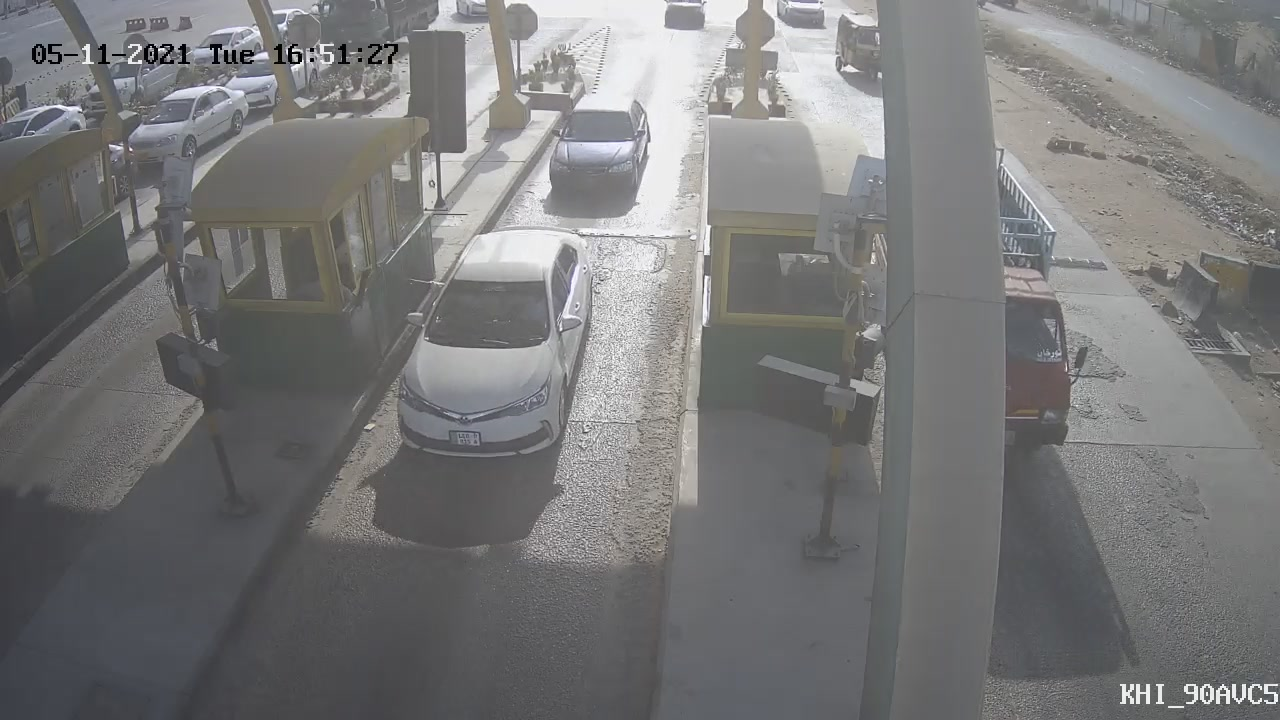F1: (370, 211, 614, 478), (526, 83, 666, 213)
